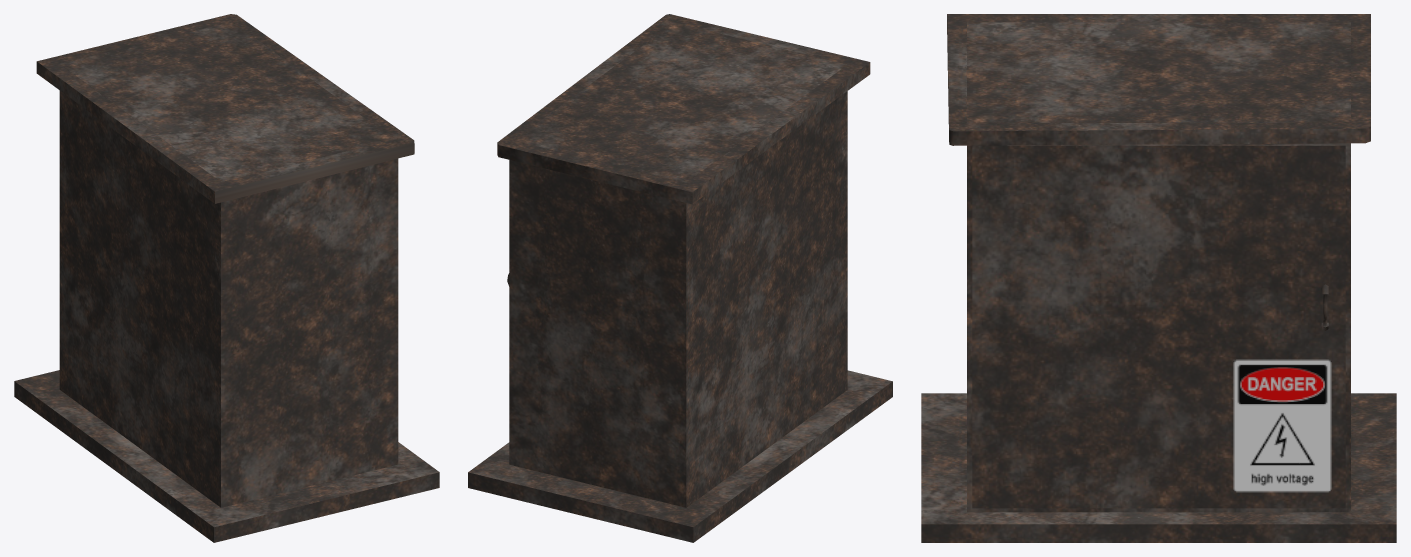
The model's file is electricbox.fbx.
The picture shows the model from 3 angles, left to right: view 1: azimuth 30°, elevation 25°; view 2: azimuth 150°, elevation 25°; view 3: azimuth 270°, elevation 25°; orthographic projection. The views are drawn at different scales.
Visible parts, largest first — view 1: Cube_2_1; view 2: Cube_2_1; view 3: Cube_2_1.
Part boxes in pixels (x1=…): Cube_2_1: x1=14, y1=14, x2=439, y2=542; Cube_2_1: x1=468, y1=14, x2=892, y2=542; Cube_2_1: x1=921, y1=14, x2=1396, y2=542.
Size of the model in its own units: 200 by 288 by 306.
1 material, 1 textured.
